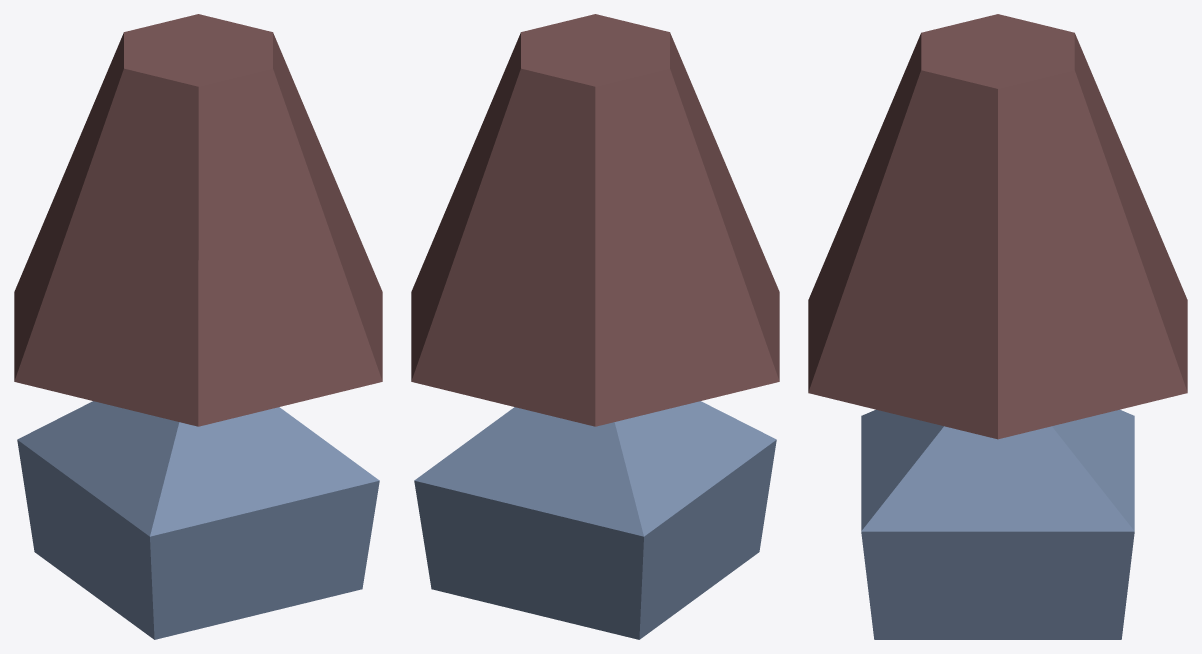
Rendered from Lamp.fbx.
3 views of the same model, side by side, from view 1: azimuth 30°, elevation 25°; view 2: azimuth 150°, elevation 25°; view 3: azimuth 270°, elevation 25° (orthographic). The views are drawn at different scales.
Visible parts, largest first — view 1: polySurface90; view 2: polySurface90; view 3: polySurface90.
Part boxes in pixels (left/top/right/bottom): polySurface90: left=14, top=14, right=382, bottom=639; polySurface90: left=411, top=14, right=779, bottom=639; polySurface90: left=808, top=14, right=1187, bottom=639.
Size of the model in its own units: 91.36 by 123 by 79.12.
